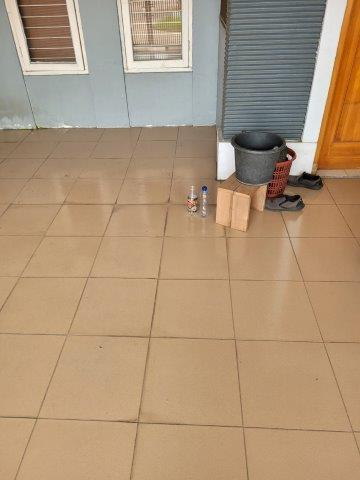botolplastik: (185, 186, 197, 215), (200, 184, 208, 217)
